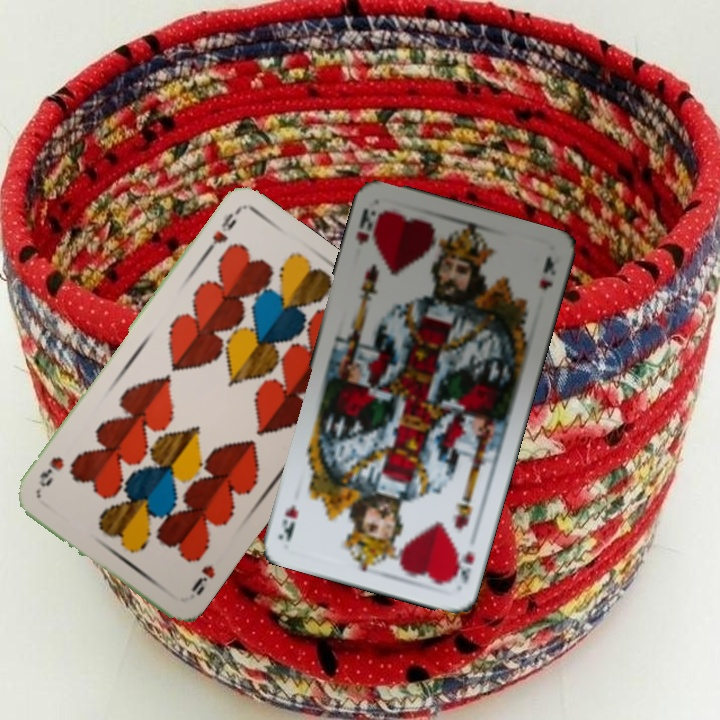H9: (201, 206, 243, 257), (187, 561, 218, 598)
HK: (352, 204, 386, 249), (445, 547, 477, 587)
